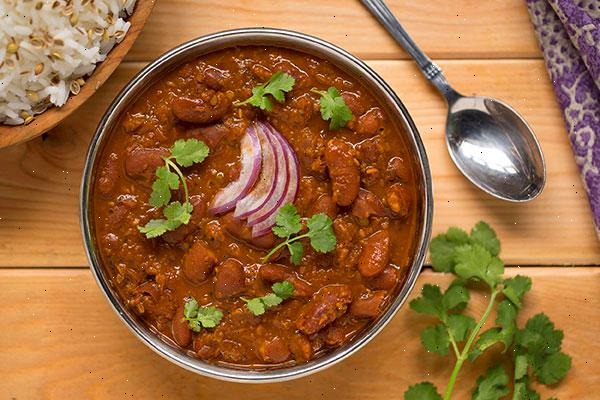rajma: (126, 55, 412, 384)
